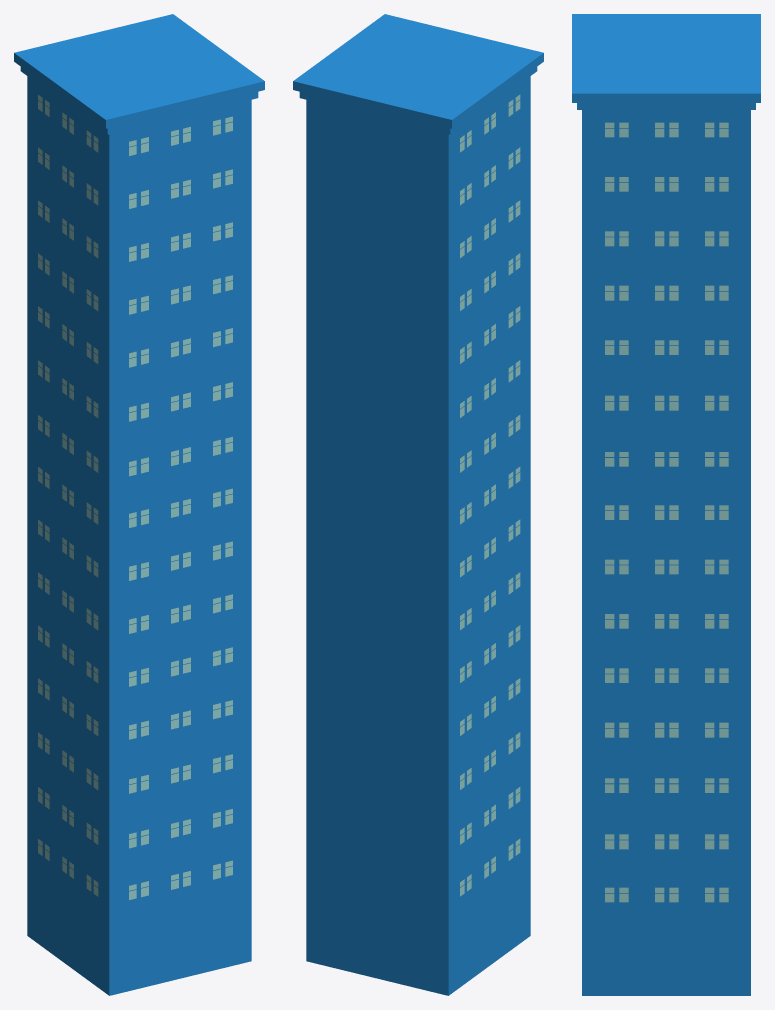
File: Apart_2x.fbx
3 renders of one model, left to right at view 1: azimuth 30°, elevation 25°; view 2: azimuth 150°, elevation 25°; view 3: azimuth 270°, elevation 25°, orthographic. The views are drawn at different scales.
Visible parts, largest first — view 1: Apart; view 2: Apart; view 3: Apart.
Boxes of the visible parts, x1,y1,x2,y2 form: Apart: (14,14,264,995); Apart: (293,14,543,995); Apart: (572,14,760,995).
Bounding box in the file's own units: 1888 × 10000 × 1888.
